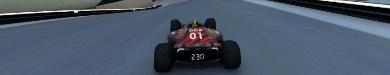Car: (152, 17, 241, 71)
obstacles-Borders: (0, 0, 161, 18)
